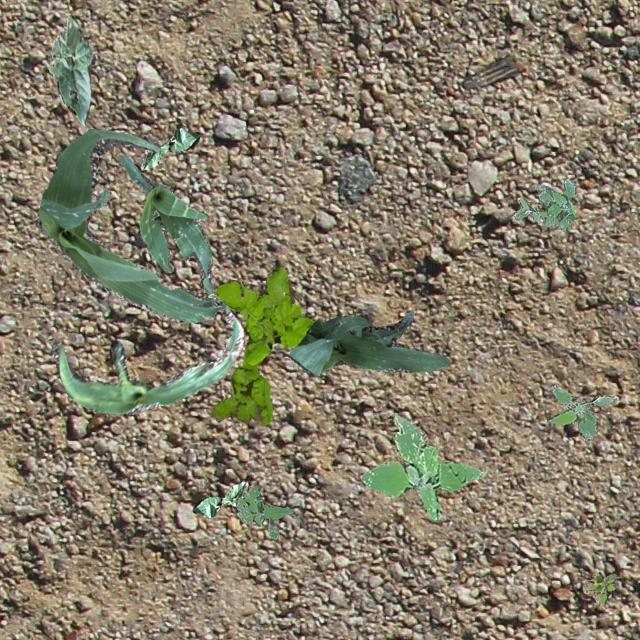crop: (36, 128, 225, 322), (51, 292, 242, 413), (120, 154, 212, 292), (287, 312, 448, 374), (48, 15, 94, 124), (140, 126, 200, 168), (192, 481, 248, 516)
weed: (210, 266, 312, 424), (361, 414, 484, 520), (546, 384, 616, 439), (512, 178, 574, 230), (234, 484, 292, 538), (582, 570, 614, 604)
